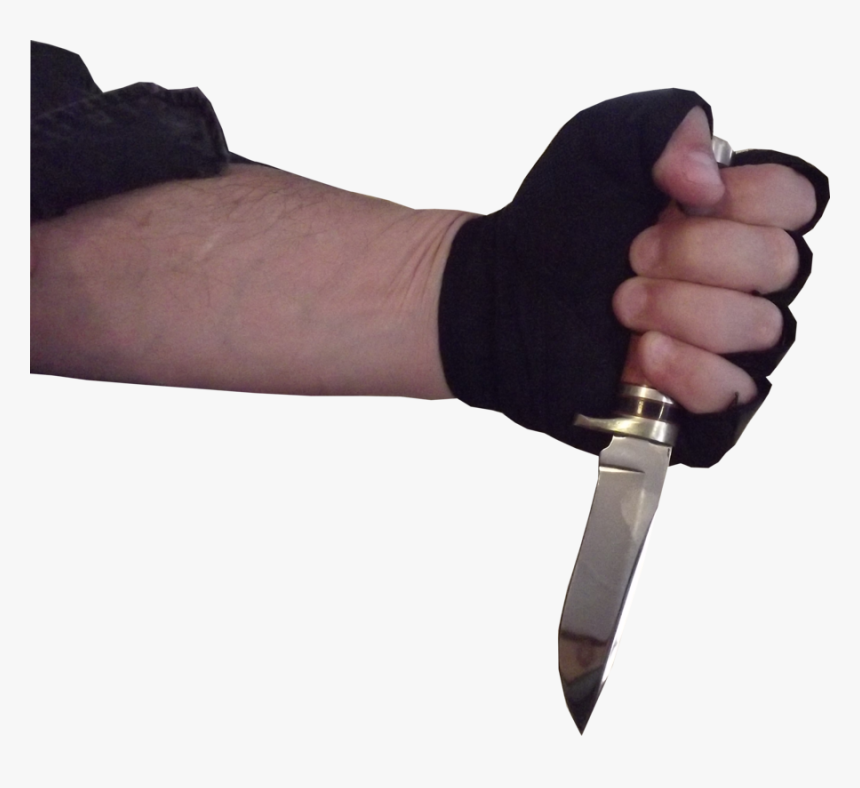knife: (517, 118, 735, 774)
